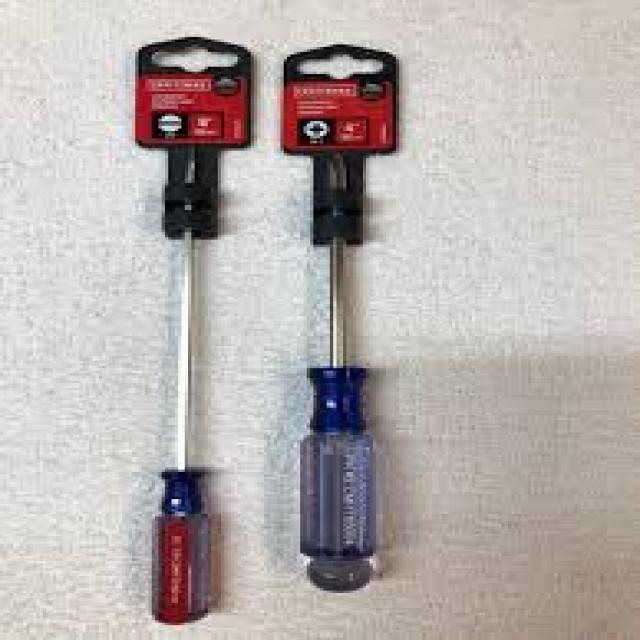screwdriver: (296, 150, 374, 594), (148, 139, 214, 632)
